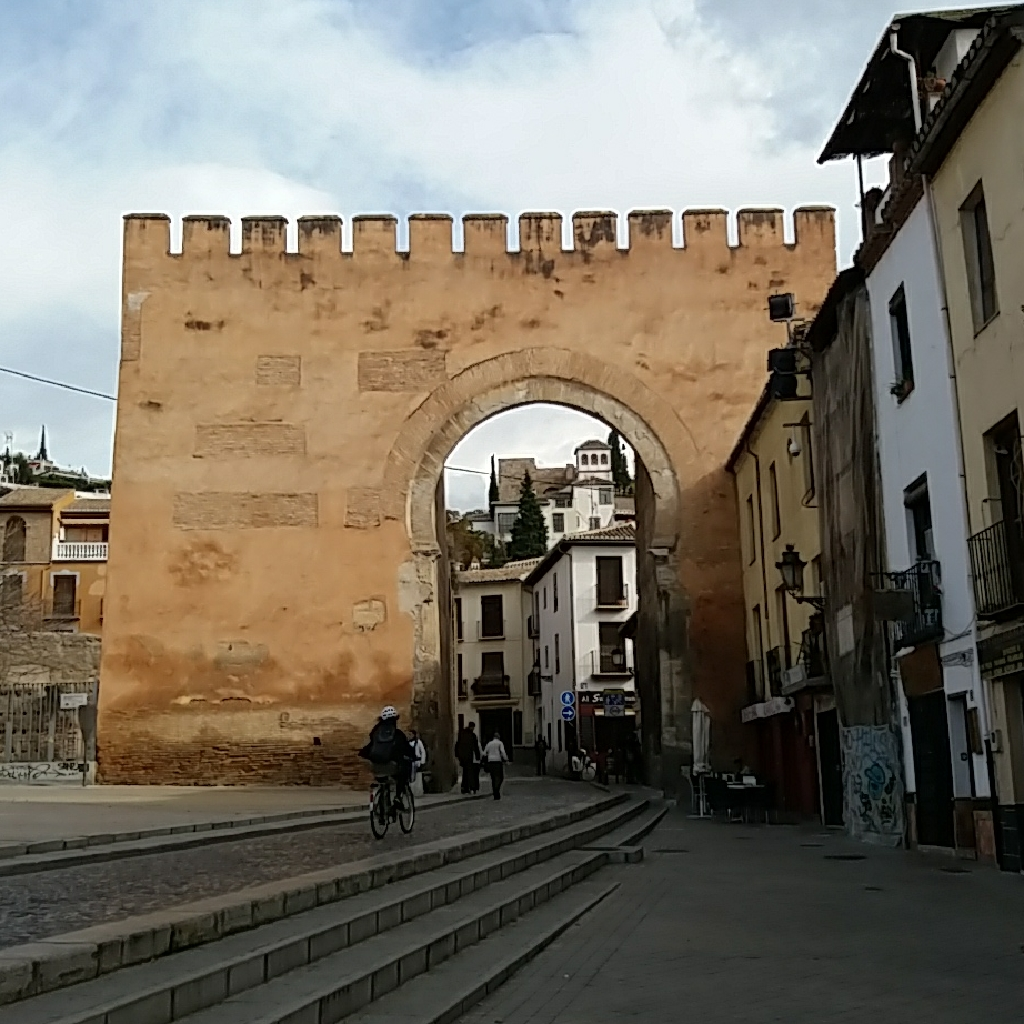arco-herradura: (423, 384, 673, 574)
